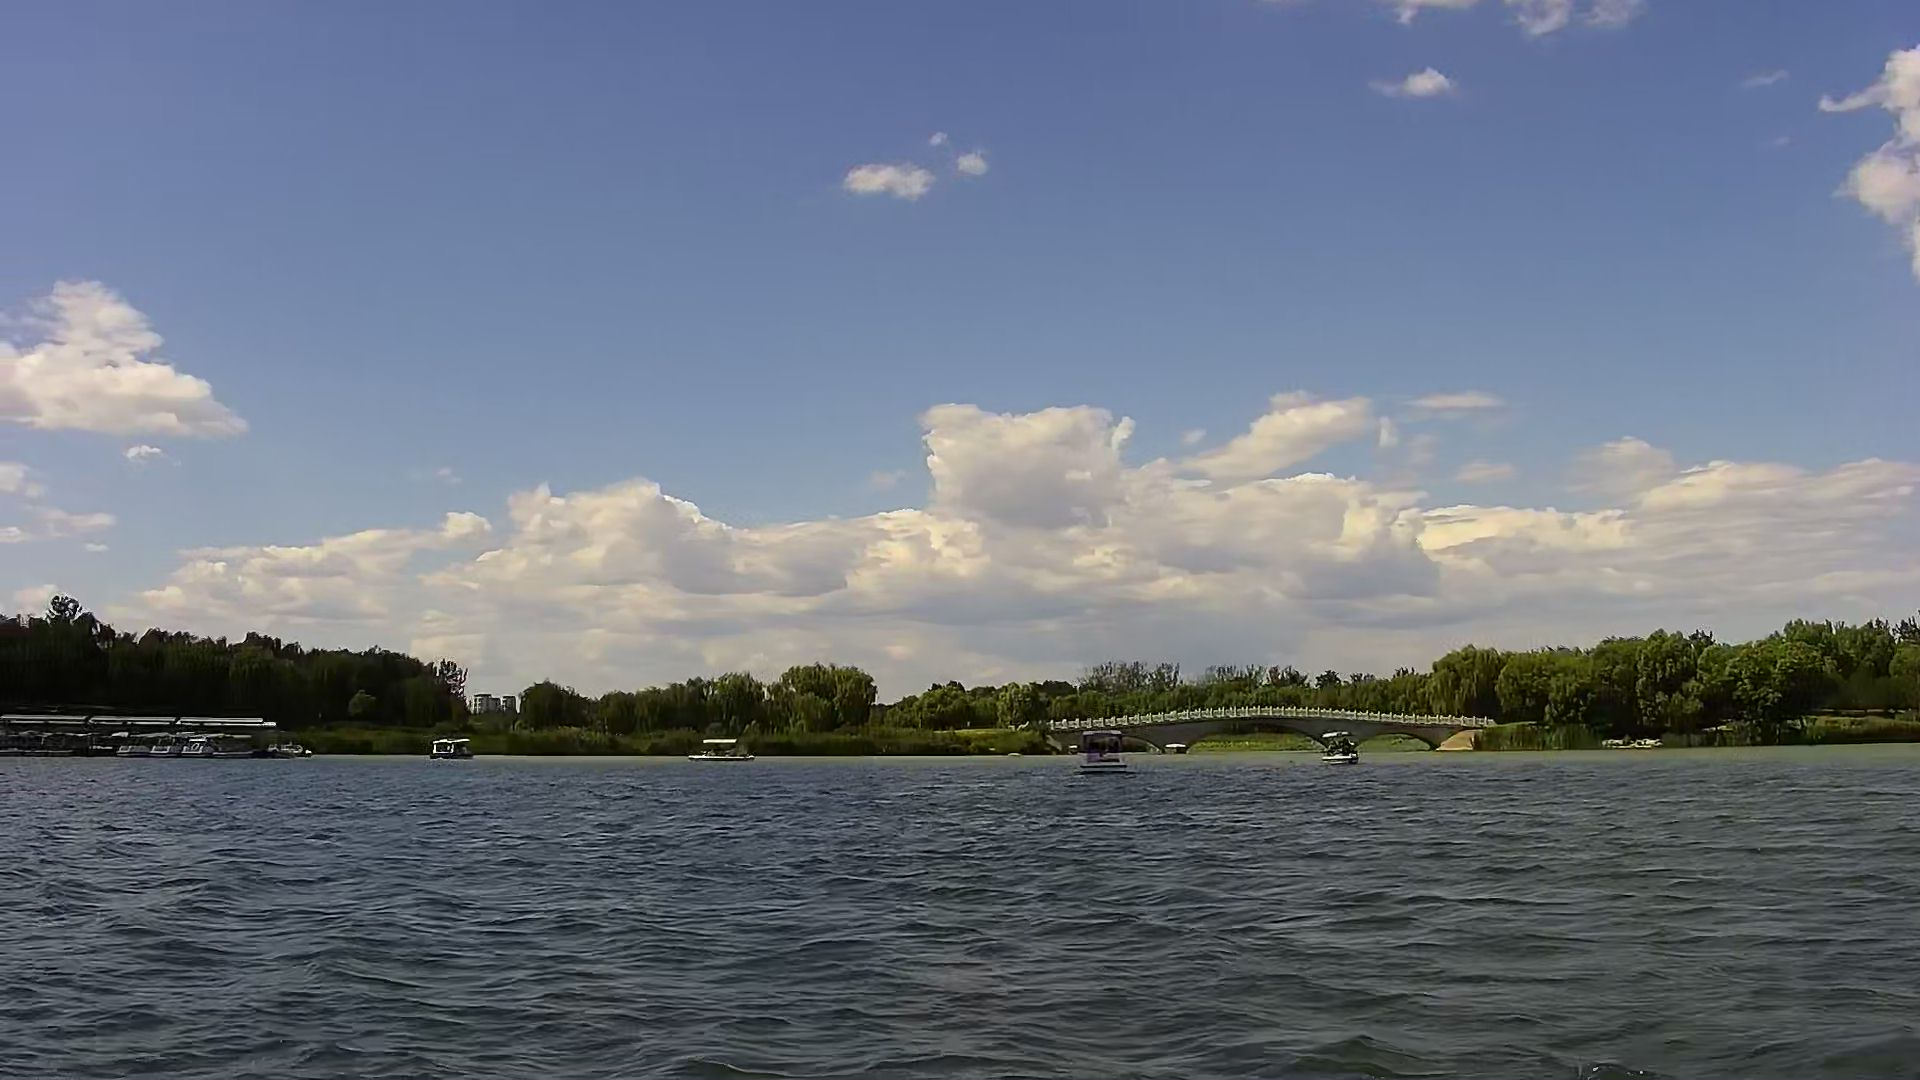boat: (1073, 724, 1137, 785), (1307, 728, 1374, 769), (680, 735, 758, 769), (421, 728, 483, 766)
bridge: (1044, 698, 1495, 760)
